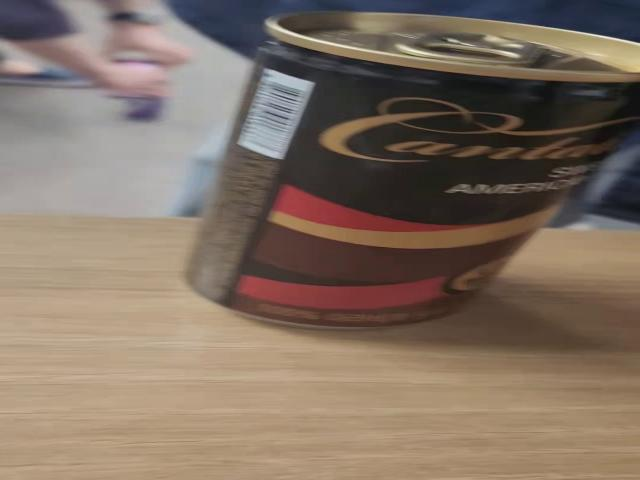Canned_drinks: (184, 8, 640, 337)
